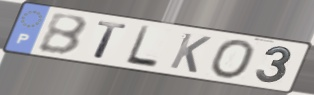3: (254, 45, 294, 85)
B: (35, 12, 89, 57)
K: (167, 31, 214, 75)
L: (123, 24, 160, 70)
O: (208, 39, 257, 81)
T: (92, 20, 130, 61)
